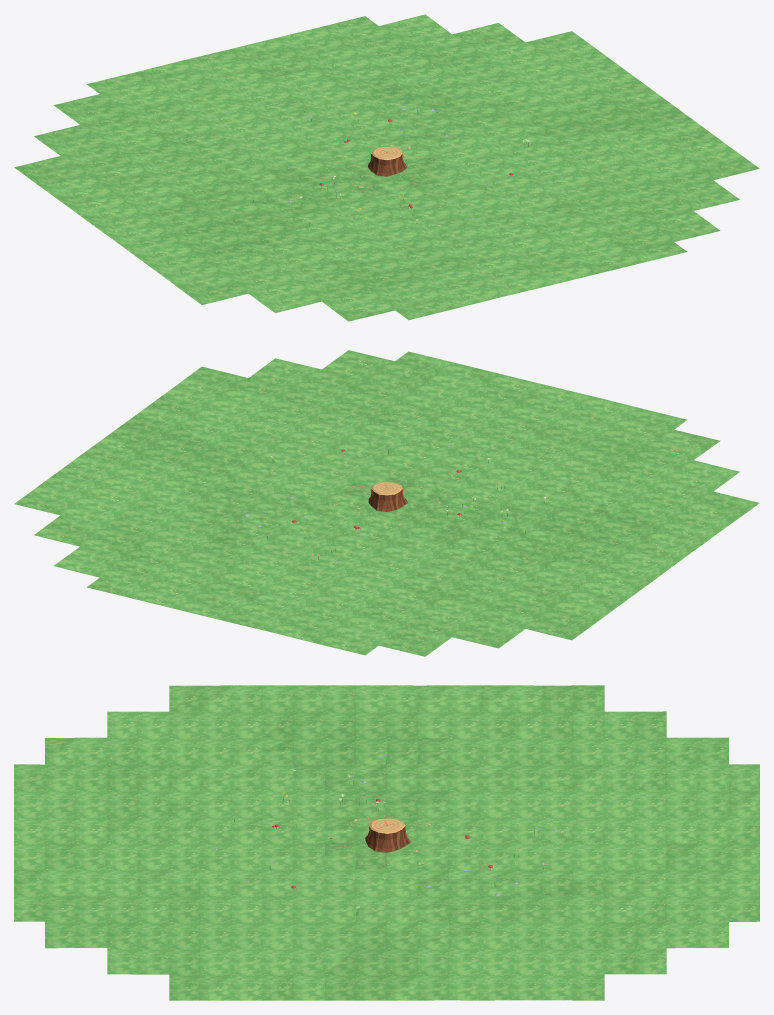
The model's file is stump.gltf.
3 renders of one model, top to bottom at view 1: azimuth 30°, elevation 25°; view 2: azimuth 150°, elevation 25°; view 3: azimuth 270°, elevation 25°, orthographic. The views are drawn at different scales.
Parts seen in each view (by area): view 1: stump_mesh; view 2: stump_mesh; view 3: stump_mesh.
Boxes of the visible parts, bbox=[...] form: stump_mesh: bbox=[14, 14, 759, 321]; stump_mesh: bbox=[14, 350, 759, 656]; stump_mesh: bbox=[14, 685, 759, 1000].
Bounding box in the file's own units: 12 × 0.37 × 12.
Materials: 1 (1 with a texture image).
